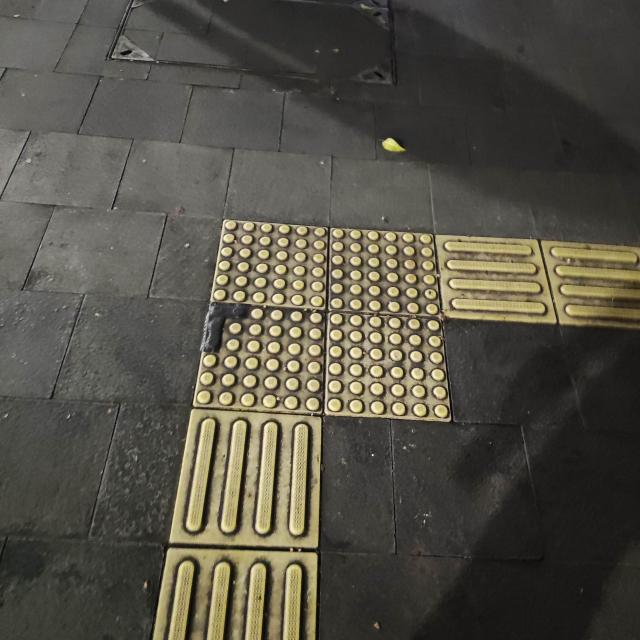kanan: (156, 186, 640, 467)
